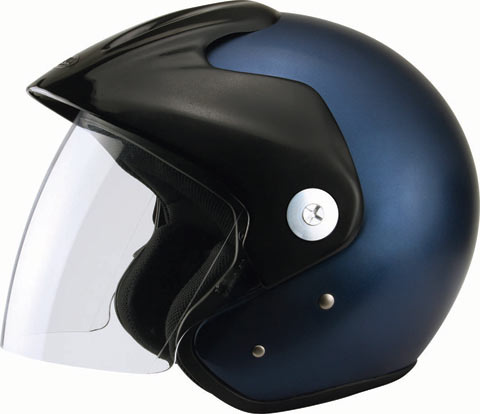helmet: (36, 13, 475, 410)
